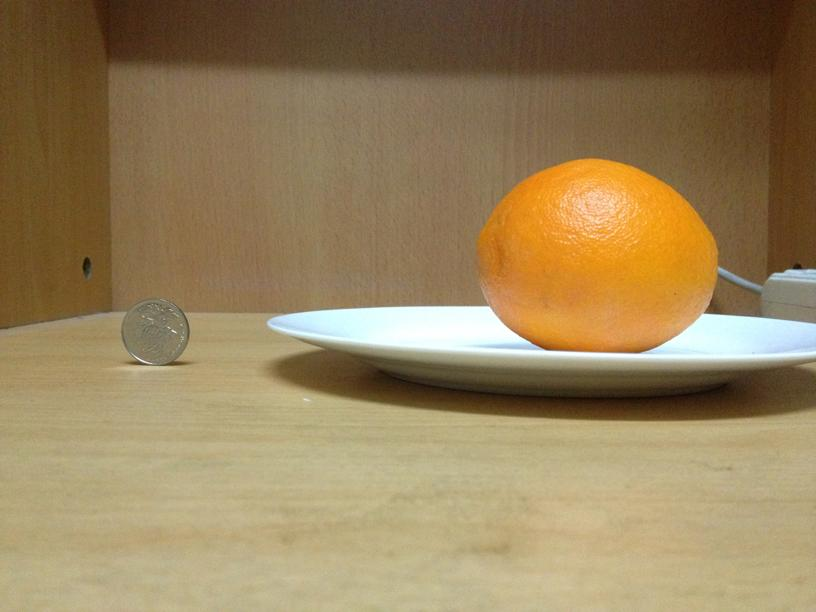coin: (120, 297, 189, 366)
orange: (472, 157, 717, 350)
